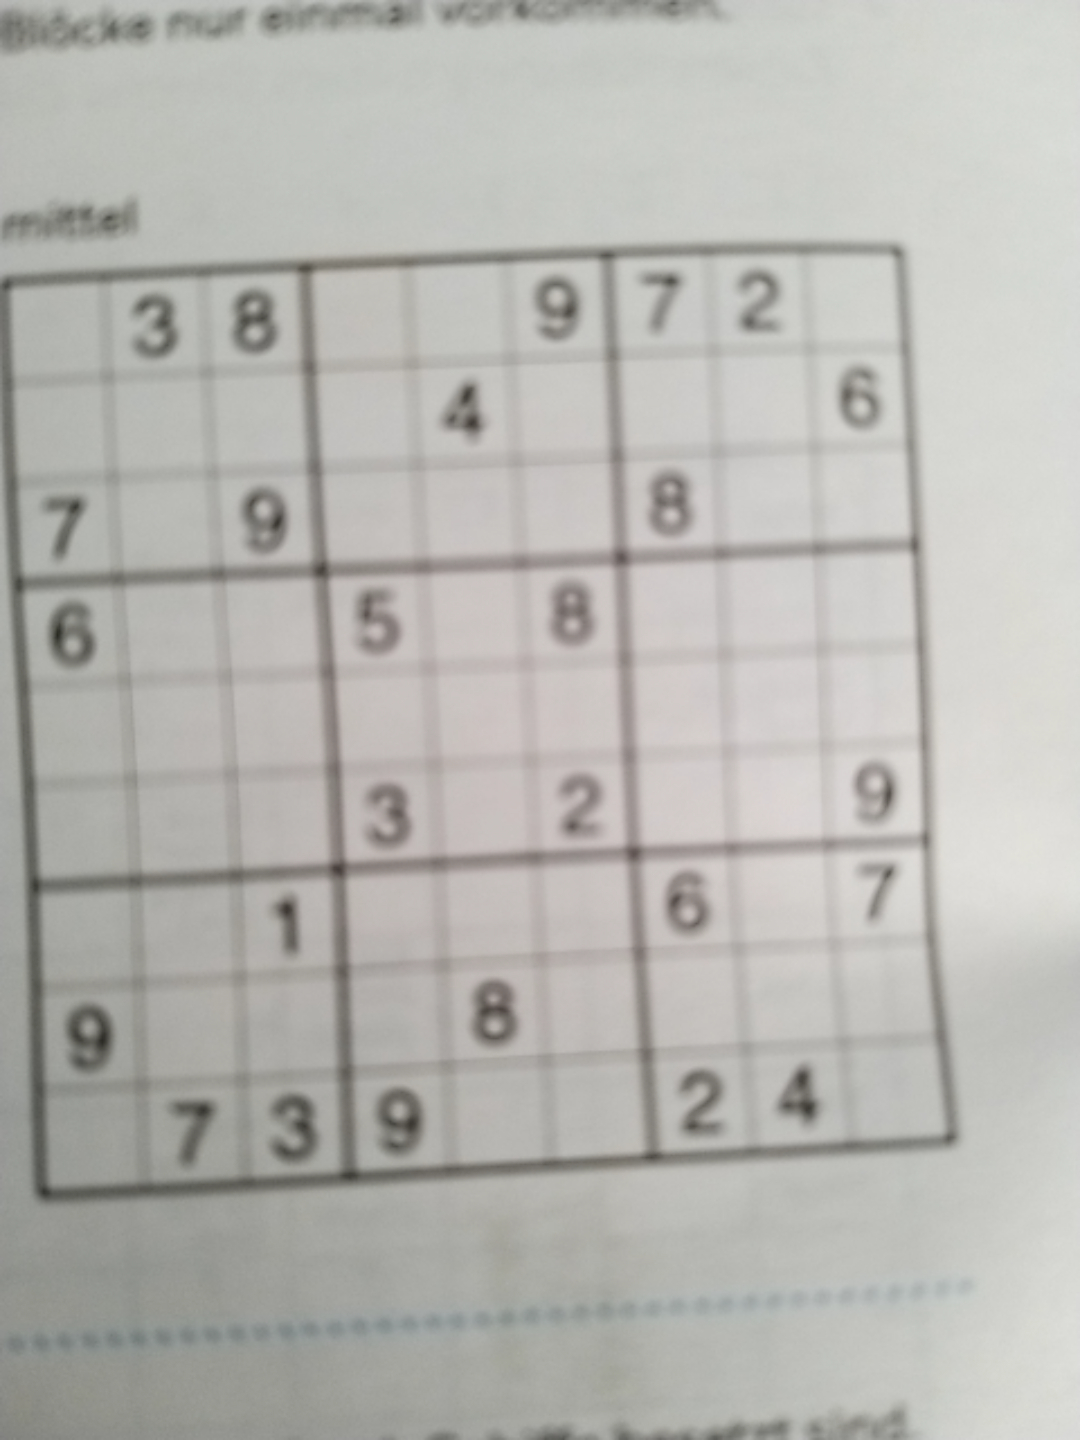sudoku: (0, 244, 955, 1193)
